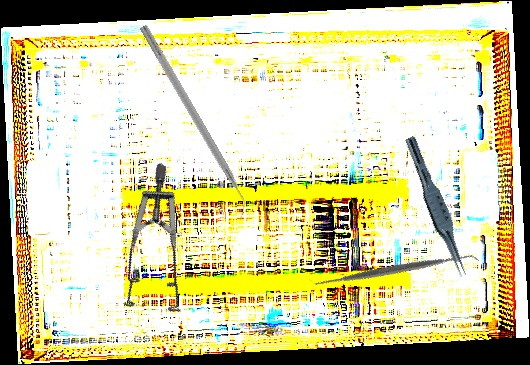Chopper: (129, 24, 255, 222)
Spatula Surgical: (308, 183, 480, 357)
Speculum: (77, 161, 246, 335)
Tissue Forceps: (396, 135, 476, 279)
